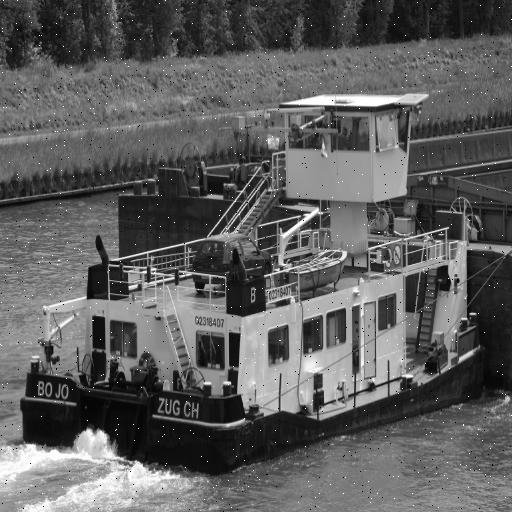tugboat: (18, 89, 493, 485)
